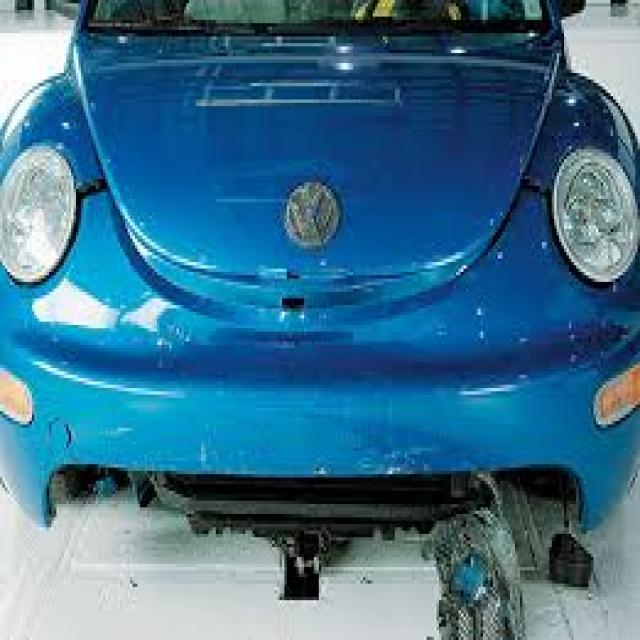moderate: (27, 395, 636, 608)
